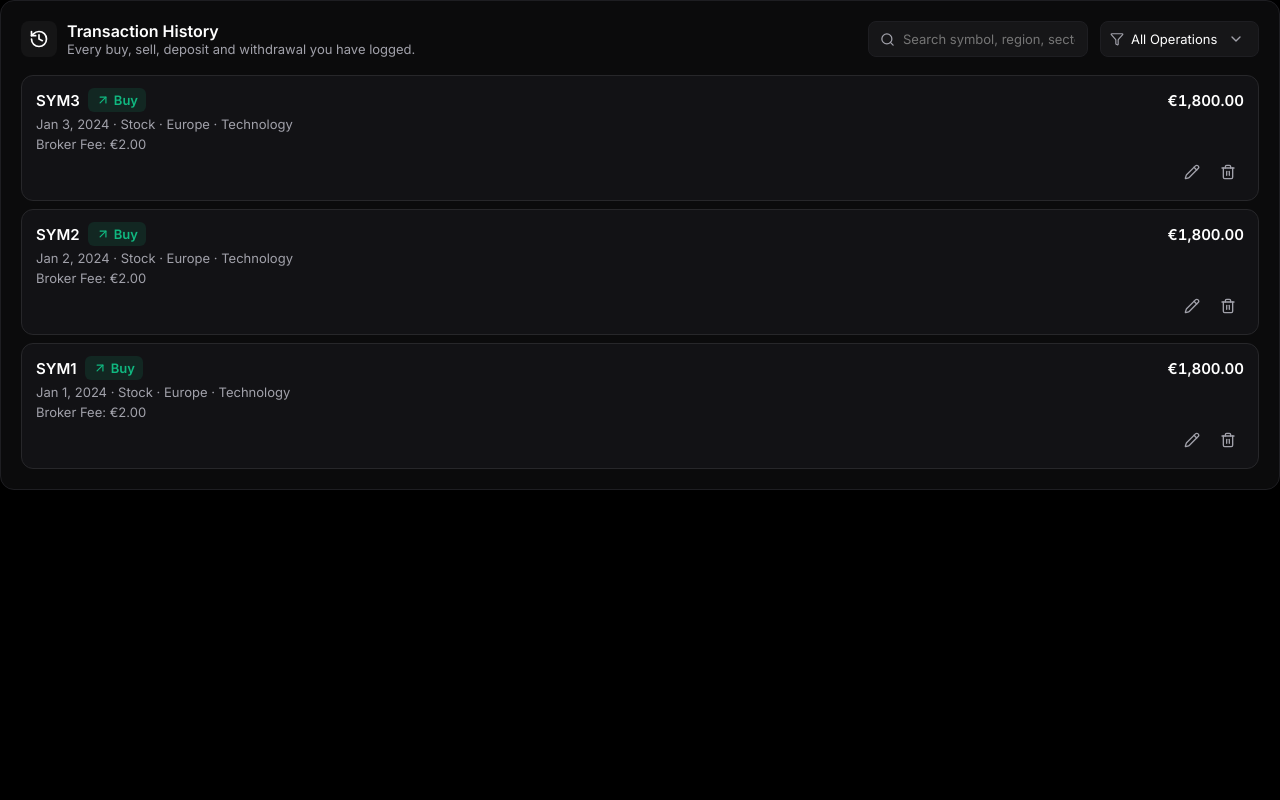
Test: removing a transaction › closes on Escape
This screenshot has width=1280, height=800.
Click the button named "Delete Buy SYM1, Jan 1, 2024" at [1228, 440], box [1212,424,1244,456]
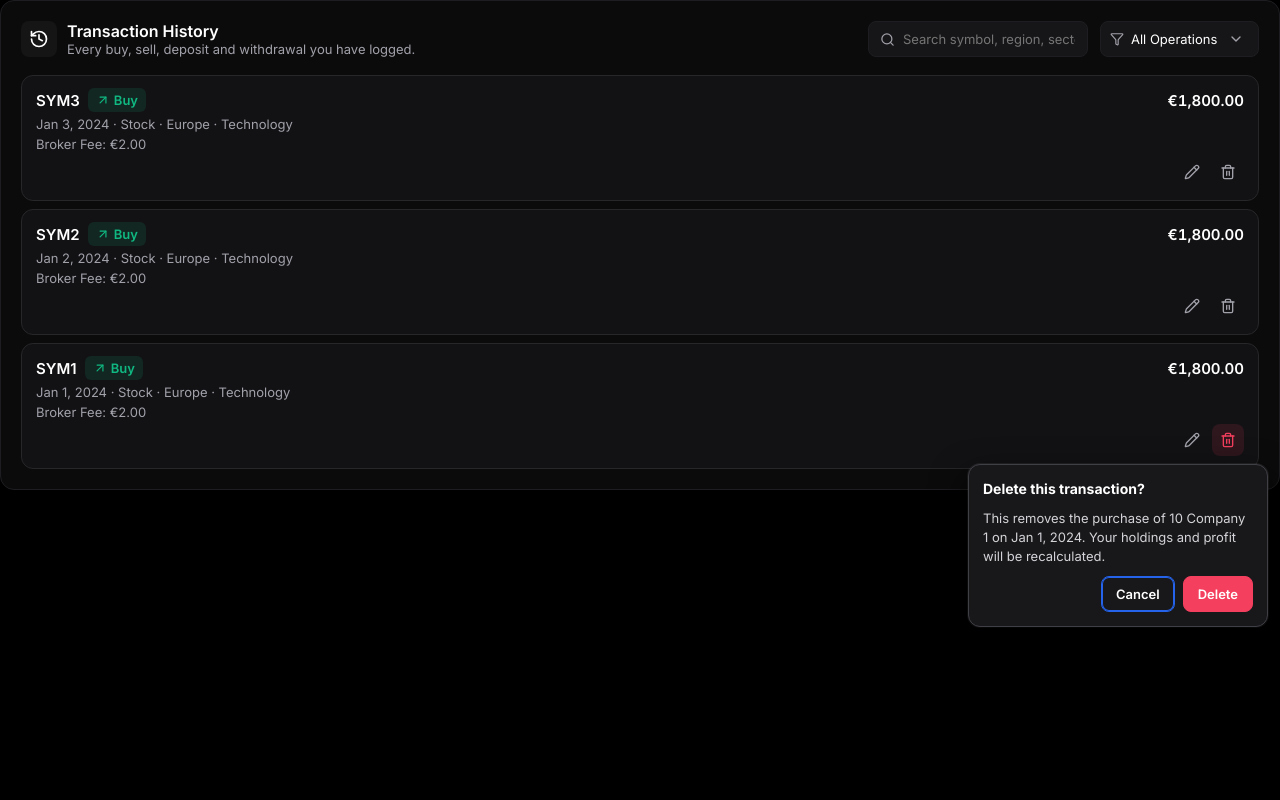
Press Escape
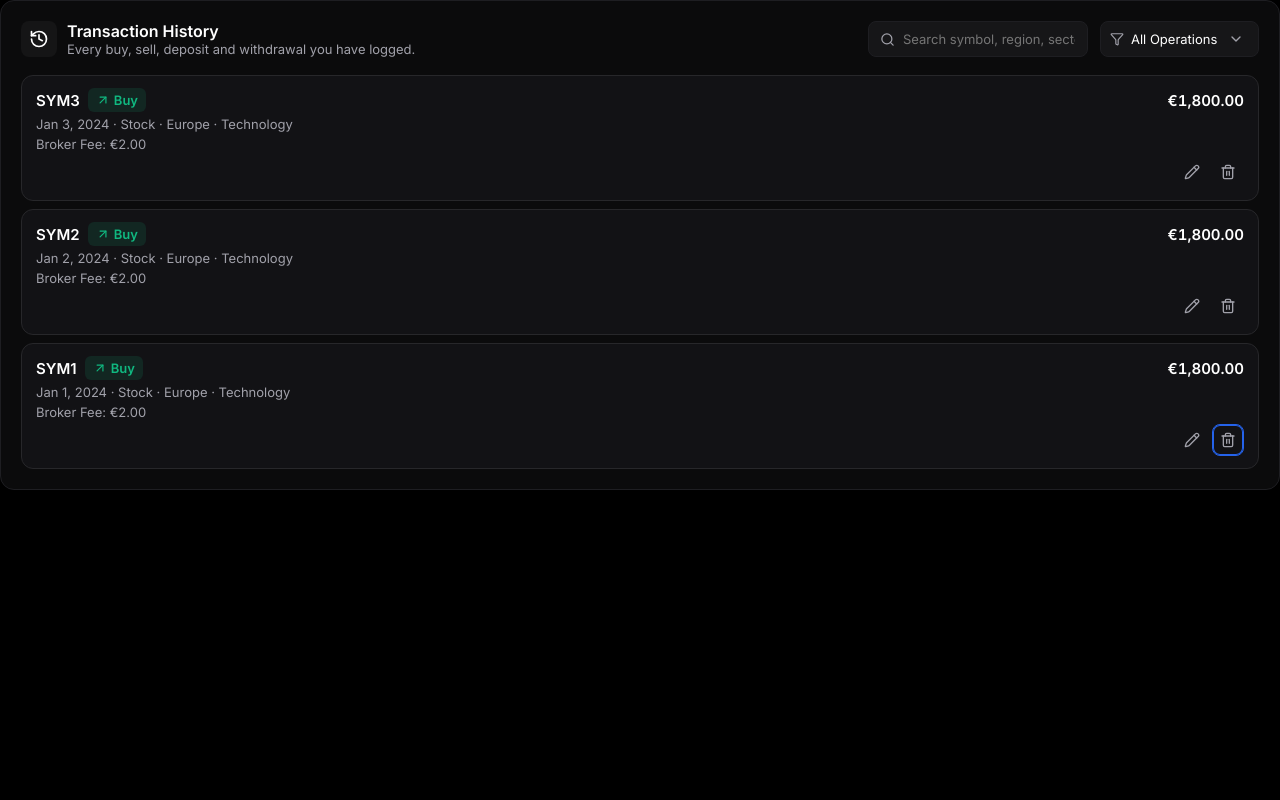
Expected: the dialog is gone
